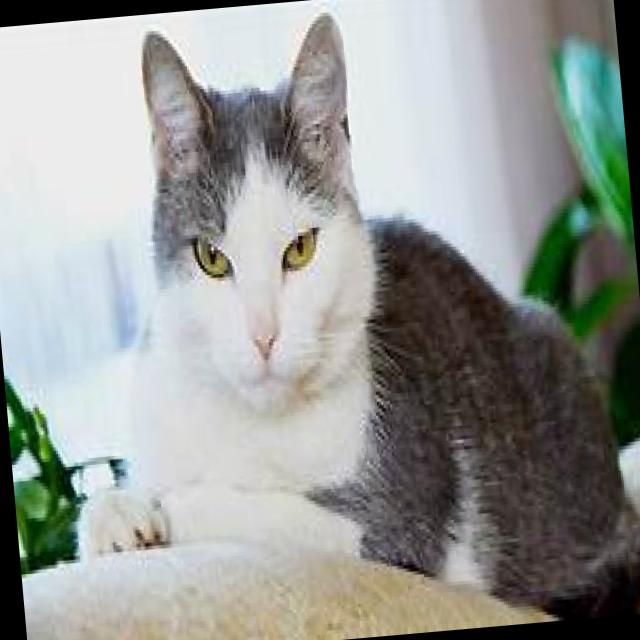animal: (110, 0, 640, 613)
